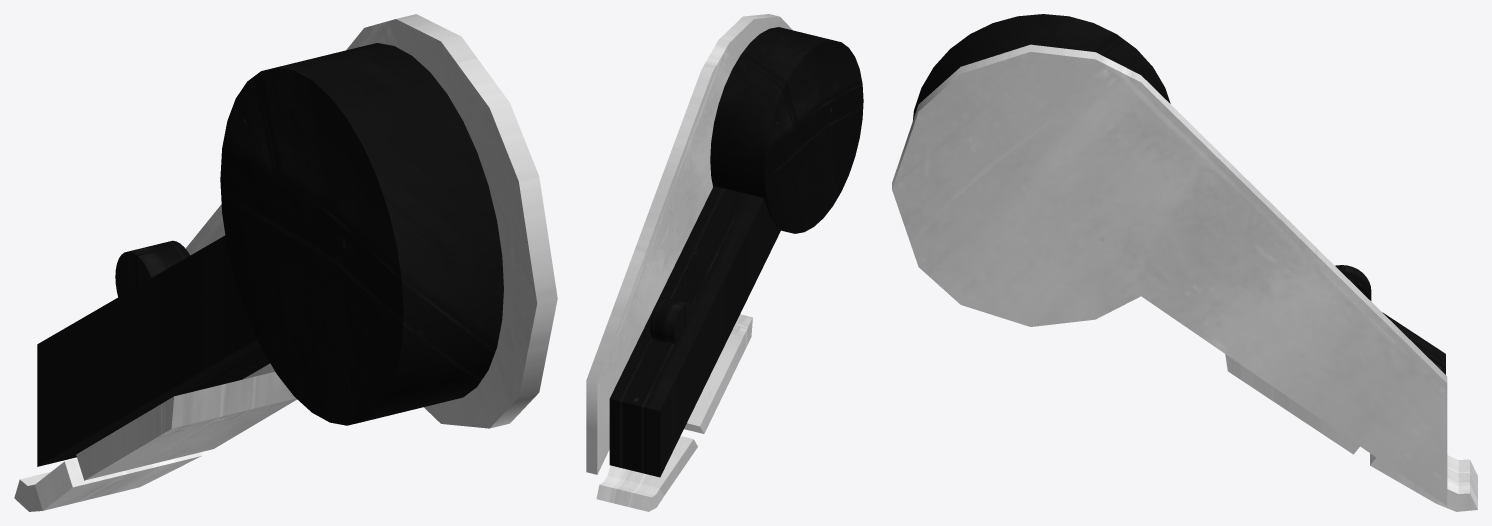
File: right_upper_leg.obj
3 views of the same model, side by side, from view 1: azimuth 30°, elevation 25°; view 2: azimuth 150°, elevation 25°; view 3: azimuth 270°, elevation 25° (orthographic). The views are drawn at different scales.
Visible parts, largest first — view 1: Cylinder.014, Cube.007, Cube.009, Cube.017, Cube.016, Cylinder.068; view 2: Cylinder.014, Cube.007, Cube.009, Cube.016, Cube.017, Cylinder.068; view 3: Cube.009, Cylinder.014, Cube.016, Cube.017, Cube.007.
Part boxes in pixels (box(x1,y1,x2,y2)): Cylinder.014: box(220, 43, 503, 425); Cube.007: box(37, 235, 269, 466); Cube.009: box(185, 14, 557, 428); Cube.017: box(76, 372, 296, 480); Cube.016: box(14, 452, 202, 511); Cylinder.068: box(115, 240, 189, 296); Cylinder.014: box(710, 27, 863, 233); Cube.007: box(609, 186, 781, 477); Cube.009: box(586, 14, 792, 474); Cube.016: box(596, 436, 697, 511); Cube.017: box(684, 314, 752, 433); Cylinder.068: box(650, 298, 694, 344); Cube.009: box(892, 44, 1447, 505); Cylinder.014: box(913, 14, 1170, 119); Cube.016: box(1370, 453, 1477, 511); Cube.017: box(1225, 354, 1359, 454); Cube.007: box(1382, 312, 1445, 374).
Size of the model in its own units: 0.1497 by 0.6158 by 0.6896.
